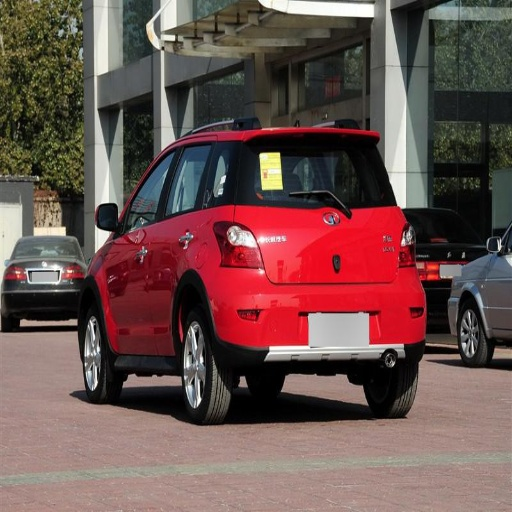back_bumper: (218, 269, 423, 364)
back_glass: (215, 140, 384, 203)
back_left_door: (148, 147, 200, 351)
front_left_door: (111, 141, 206, 351)
trunk: (204, 208, 404, 310)
